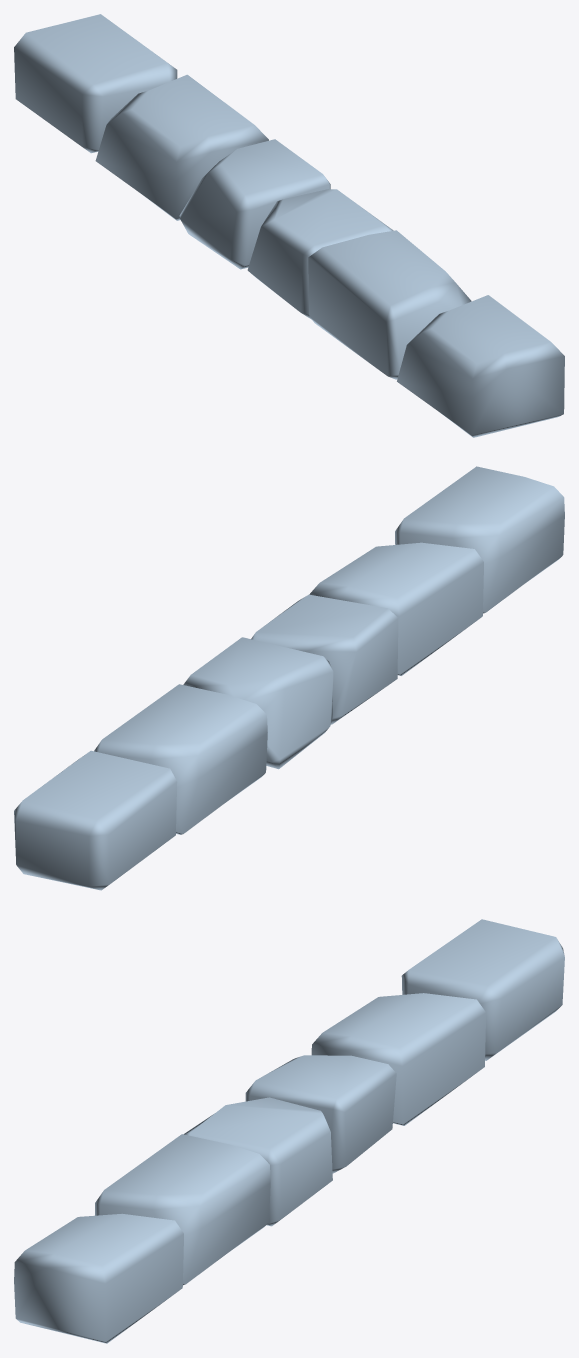
Rendered from Pavement_Lign_01_Lod0.fbx.
The picture shows the model from 3 angles, top to bottom: view 1: azimuth 30°, elevation 25°; view 2: azimuth 150°, elevation 25°; view 3: azimuth 330°, elevation 25°; orthographic projection.
Parts seen in each view (by area): view 1: Pavement_Lign_01_Lod0; view 2: Pavement_Lign_01_Lod0; view 3: Pavement_Lign_01_Lod0.
Part boxes in pixels (bbox=[...]): Pavement_Lign_01_Lod0: bbox=[14, 14, 564, 437]; Pavement_Lign_01_Lod0: bbox=[14, 466, 564, 890]; Pavement_Lign_01_Lod0: bbox=[14, 919, 564, 1343].
Size of the model in its own units: 37.38 by 28.49 by 297.
